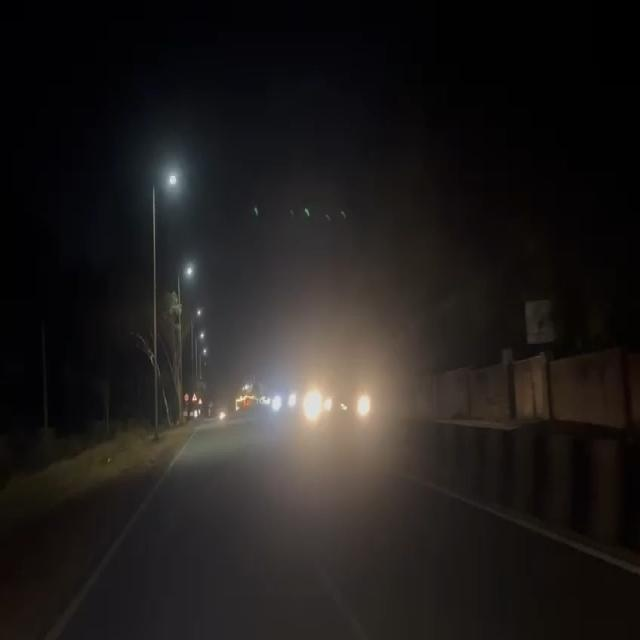bien_nguy_hiem: (191, 392, 197, 404)
